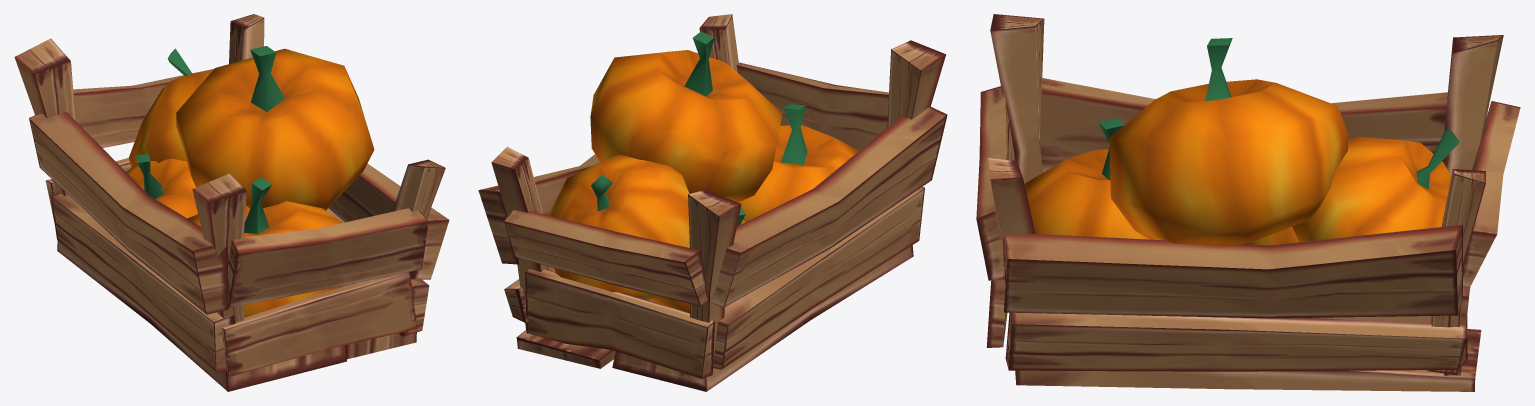
File: SM_PROP_crate_03.glb
The picture shows the model from 3 angles, left to right: view 1: azimuth 30°, elevation 25°; view 2: azimuth 150°, elevation 25°; view 3: azimuth 270°, elevation 25°; orthographic projection. The views are drawn at different scales.
Visible parts, largest first — view 1: SM_PROP_crate_03_EXPORT; view 2: SM_PROP_crate_03_EXPORT; view 3: SM_PROP_crate_03_EXPORT.
Part boxes in pixels (<box>): SM_PROP_crate_03_EXPORT: <box>14,14,449,391</box>; SM_PROP_crate_03_EXPORT: <box>478,14,947,391</box>; SM_PROP_crate_03_EXPORT: <box>976,14,1520,391</box>.
Bounding box in the file's own units: 0.645 × 0.5536 × 0.8913.
2 materials, 2 textured.
